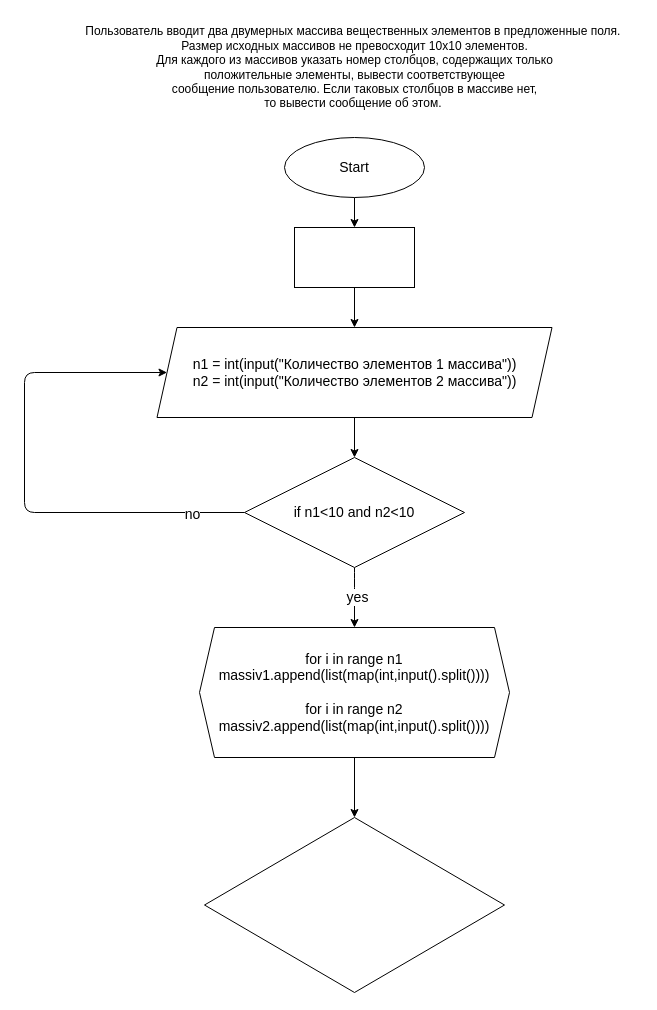
Image size: 657x1010. Some labels were removed from this diagram. The shapes that lost their labels are listed below. From the top down, each one's centre as x and y in pixels, then its label:
(x=354, y=257): massiv1 = [] massiv2 = []
(x=354, y=904): for i in range massiv1 for j in range massiv1 if massiv1[i]<0
